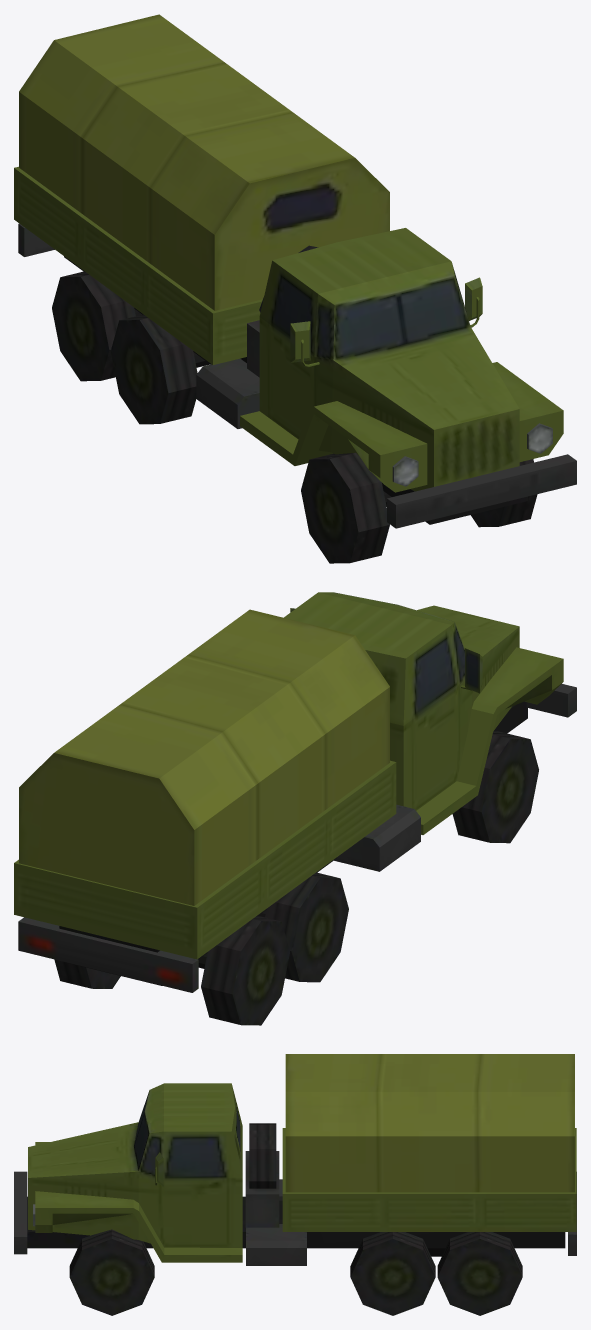
Rendered from mil-truck.lod0.glb.
3 renders of one model, top to bottom at view 1: azimuth 30°, elevation 25°; view 2: azimuth 150°, elevation 25°; view 3: azimuth 270°, elevation 25°, orthographic. The views are drawn at different scales.
Visible parts, largest first — view 1: Ural_Ural_0; view 2: Ural_Ural_0; view 3: Ural_Ural_0.
Part boxes in pixels (x1,y1,x2,y2): Ural_Ural_0: (14,14,576,563); Ural_Ural_0: (14,592,576,1025); Ural_Ural_0: (14,1054,576,1315).
Size of the model in its own units: 2.13 by 3.05 by 7.4.
1 material, 1 textured.
